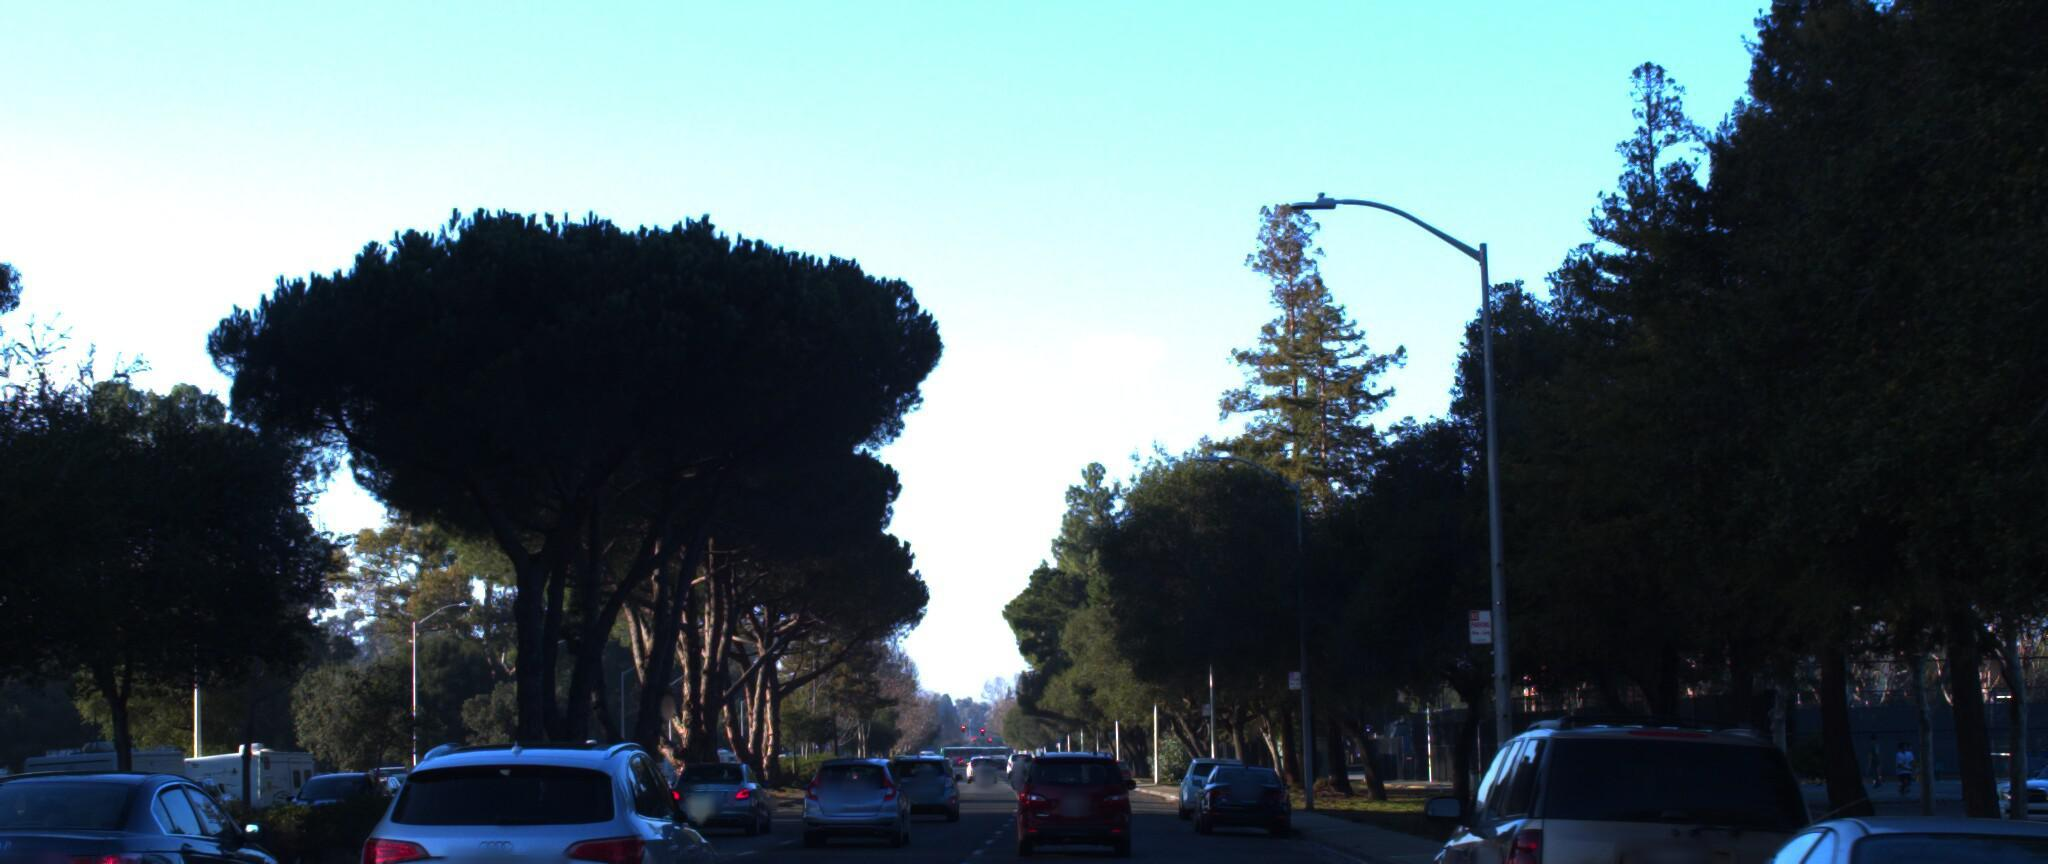car: (1387, 684, 1861, 864), (1605, 684, 2048, 864), (334, 731, 739, 864), (0, 741, 295, 864), (1007, 741, 1130, 846), (793, 743, 904, 837), (1183, 743, 1300, 824), (664, 747, 769, 826), (896, 737, 977, 809)
other_vehicle: (10, 728, 195, 852)
